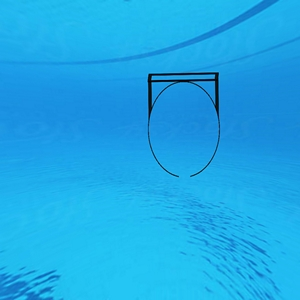circle: (143, 69, 225, 179)
